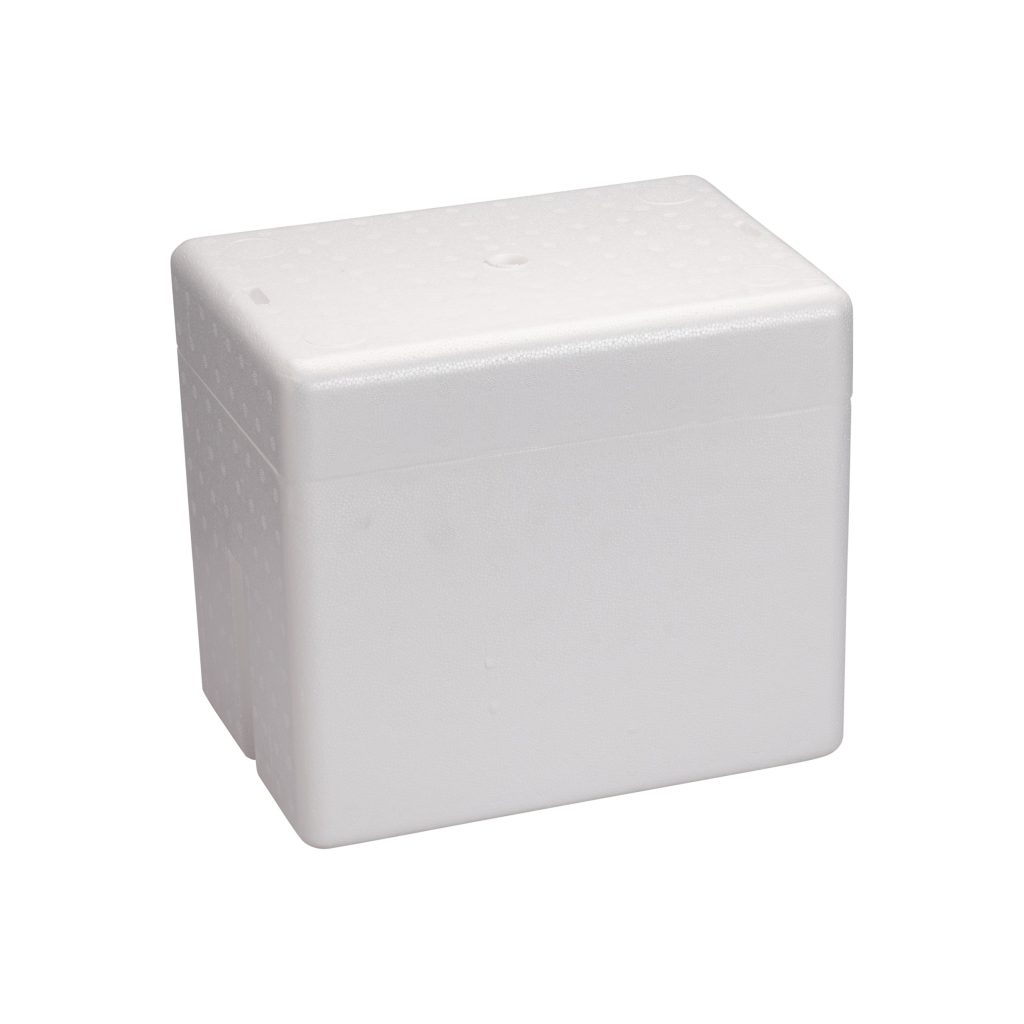Boxes: (171, 177, 852, 847)
